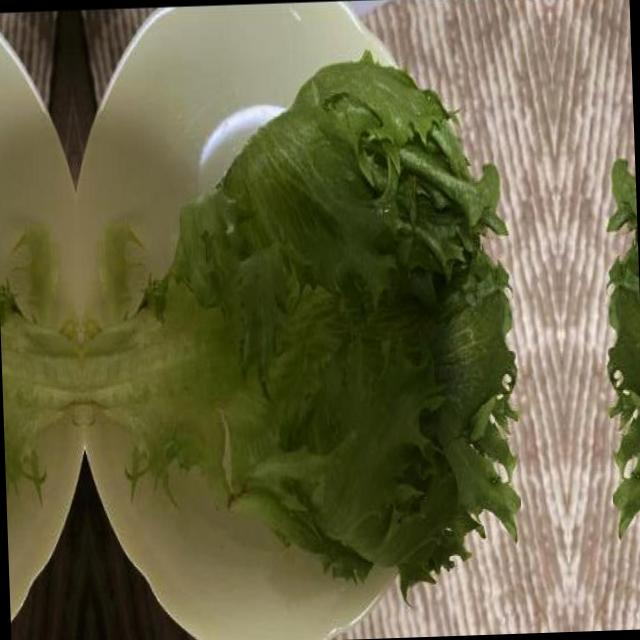healthy: (71, 42, 532, 615), (0, 58, 90, 618), (589, 38, 640, 597)
